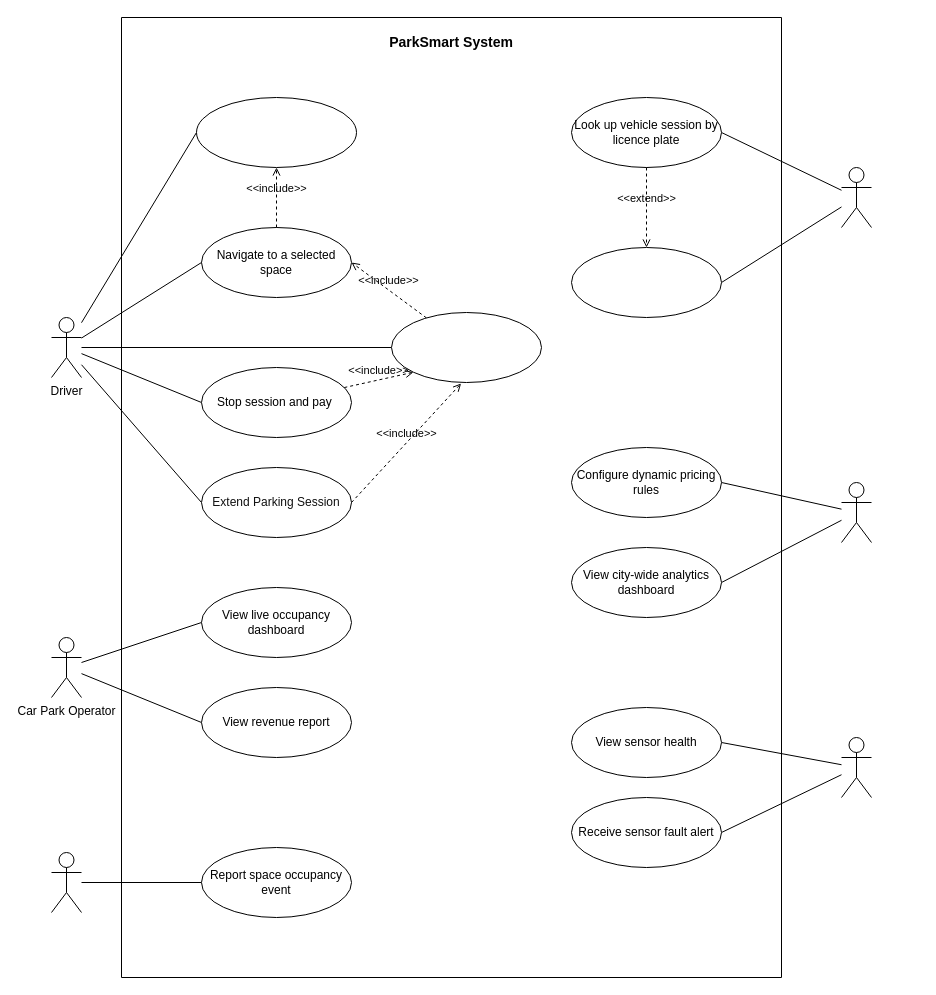
This 936x995 diagram has some shape labels left out. Here are the shapes that lost their labels. From the top down, the centre of each, then its label:
At (x=276, y=132): "Find available parking space on map".
At (x=856, y=197): "Parking Warden".
At (x=646, y=282): "Issue digital penalty notice".
At (x=466, y=347): "Start a parking sesion".
At (x=856, y=512): "City Transport Authority".
At (x=856, y=767): "Maintenance Team".
At (x=66, y=882): "Sensor (System Actor)".
